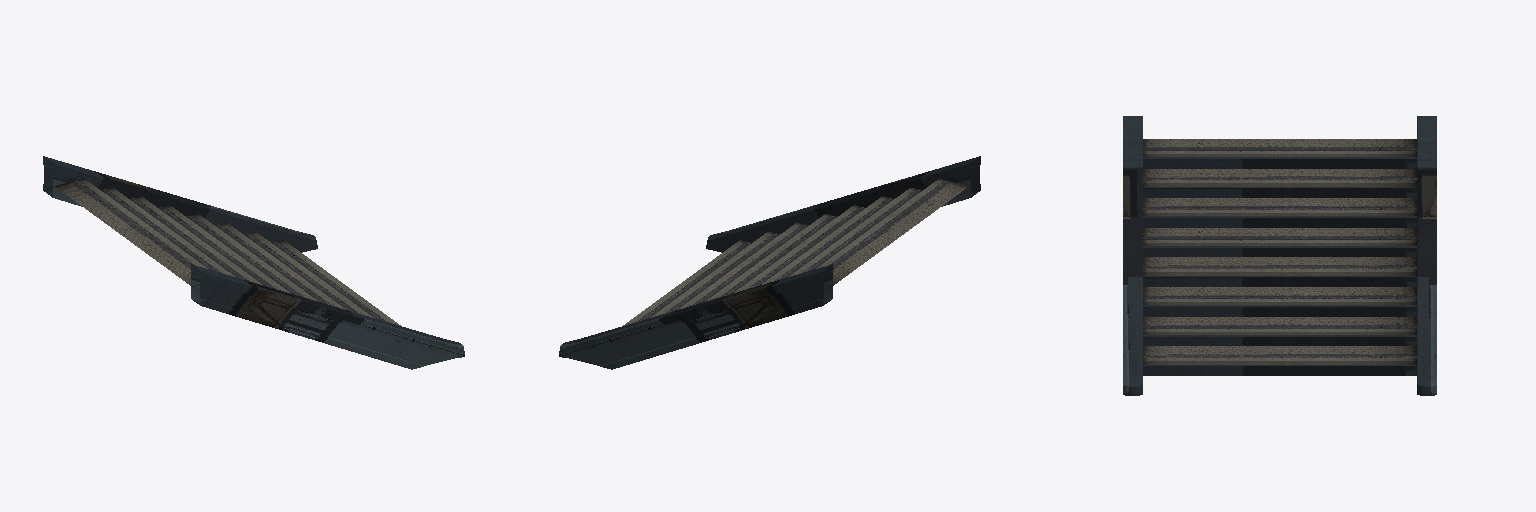
3 views of the same model, side by side, from view 1: azimuth 30°, elevation 25°; view 2: azimuth 150°, elevation 25°; view 3: azimuth 270°, elevation 25° (orthographic).
Visible parts, largest first — view 1: rdmobj00; view 2: rdmobj00; view 3: rdmobj00.
Boxes of the visible parts, <box> form: rdmobj00: <box>43,156,464,369</box>; rdmobj00: <box>559,156,980,369</box>; rdmobj00: <box>1123,116,1436,395</box>.
Size of the model in its own units: 269 by 144 by 273.
Materials: 1 (1 with a texture image).